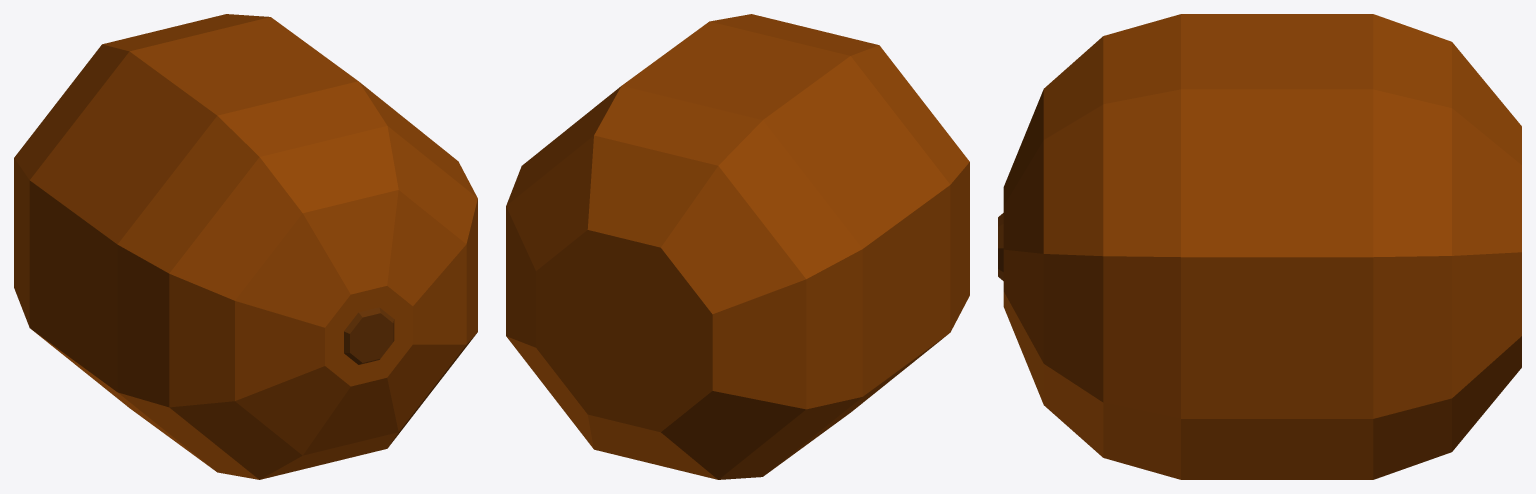
Rendered from kiwi01.gltf.
3 views of the same model, side by side, from view 1: azimuth 30°, elevation 25°; view 2: azimuth 150°, elevation 25°; view 3: azimuth 270°, elevation 25° (orthographic). The views are drawn at different scales.
Parts seen in each view (by area): view 1: Cylinder.001; view 2: Cylinder.001; view 3: Cylinder.001.
Part boxes in pixels (x1,y1,x2,y2): Cylinder.001: (14, 14, 477, 479); Cylinder.001: (506, 14, 969, 479); Cylinder.001: (998, 14, 1521, 479).
Size of the model in its own units: 0.0483 by 0.0483 by 0.0587.
1 material, 1 textured.
